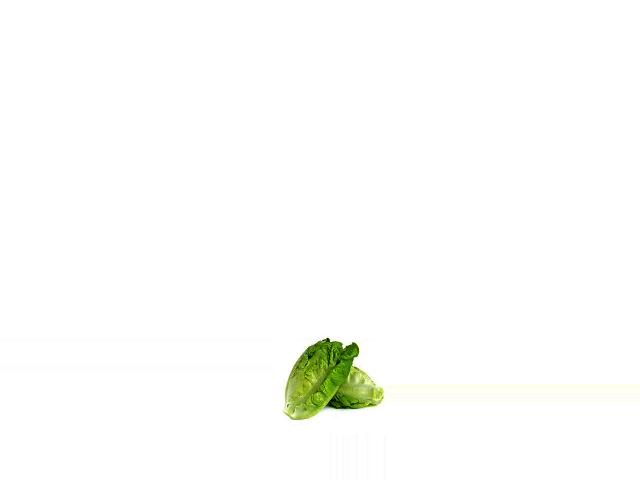lettuce: (327, 363, 385, 413)
